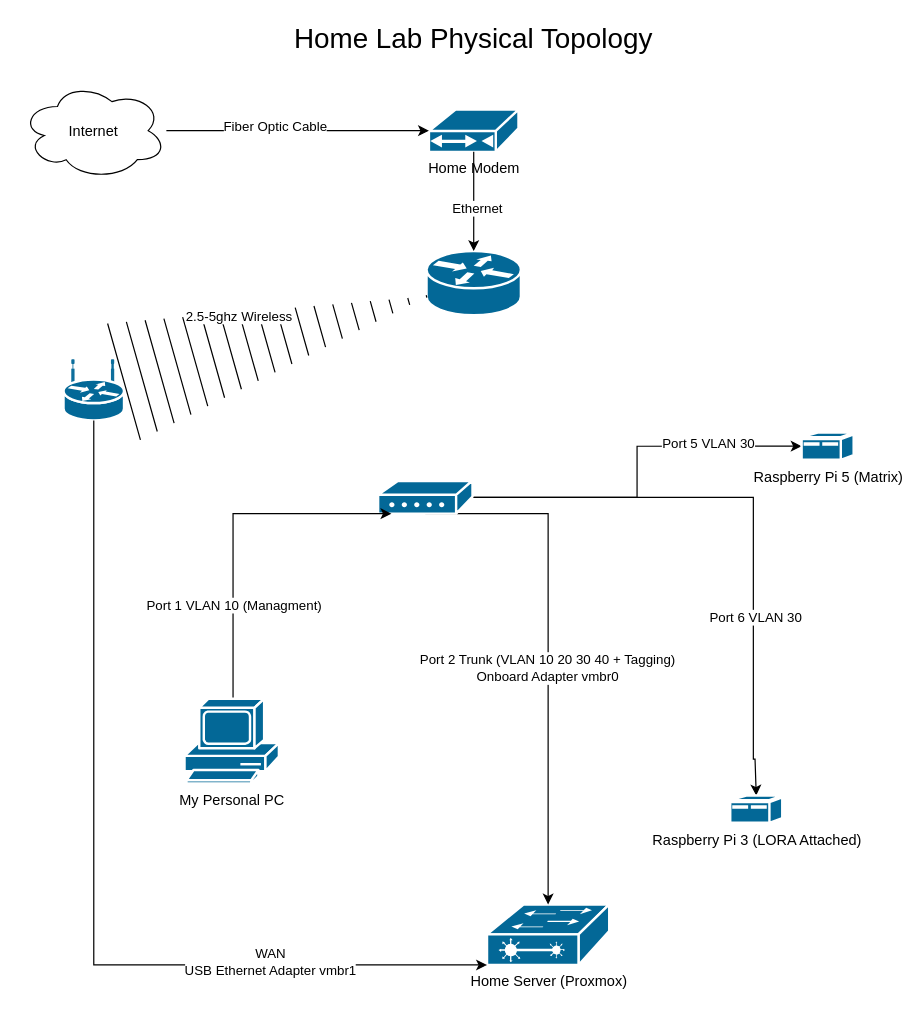
Some shapes in this 923 by 1010 pixel diagram are drawn without their labels. Each missing label, with the box of its shape:
Mesh AP: (62, 358, 125, 421)
Mesh Router: (425, 249, 522, 316)
NETGEAR Managed Switch: (376, 479, 473, 514)
